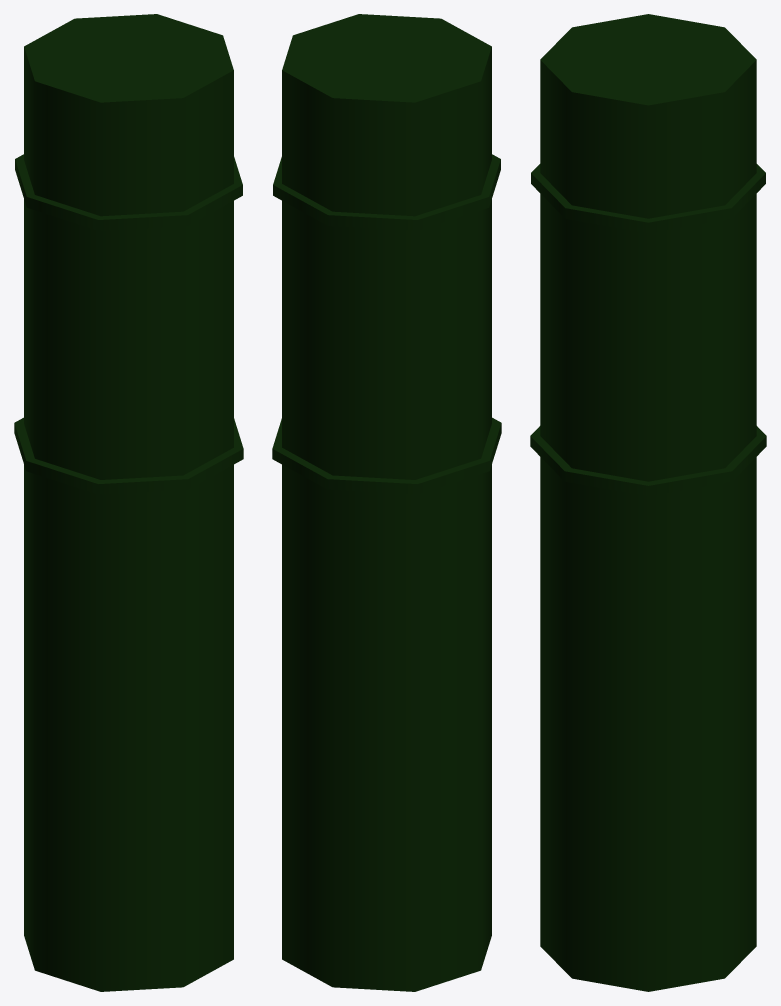
The model's file is round-tower-4.fbx.
3 views of the same model, side by side, from view 1: azimuth 30°, elevation 25°; view 2: azimuth 150°, elevation 25°; view 3: azimuth 270°, elevation 25° (orthographic).
Visible parts, largest first — view 1: round-tower-4; view 2: round-tower-4; view 3: round-tower-4.
Boxes of the visible parts, left/top/right/bottom form: round-tower-4: left=14, top=14, right=243, bottom=991; round-tower-4: left=272, top=14, right=501, bottom=991; round-tower-4: left=530, top=14, right=766, bottom=991.
Bounding box in the file's own units: 3.55 × 14.66 × 3.55.
